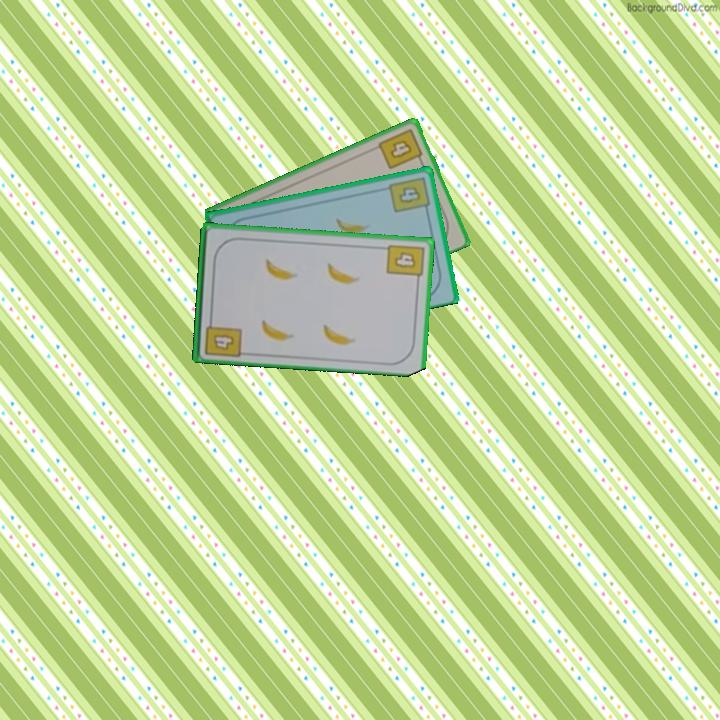4b: (375, 125, 426, 172), (385, 173, 432, 216), (201, 313, 244, 359), (383, 241, 427, 285)
